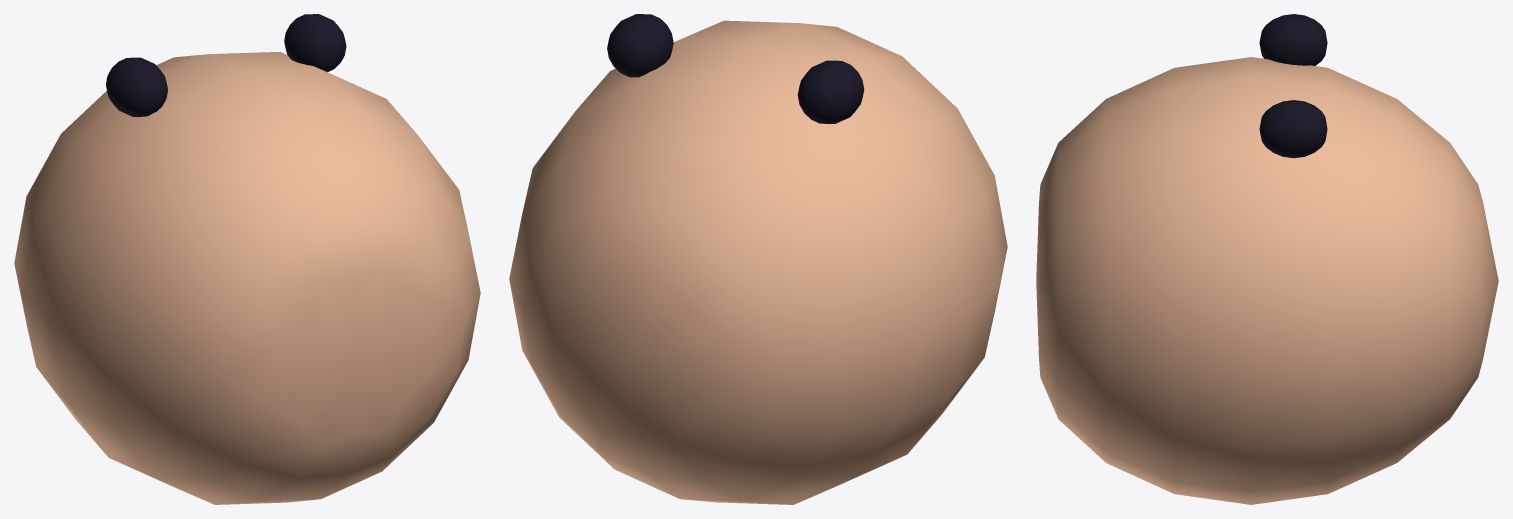
File: customer_head.fbx
The picture shows the model from 3 angles, left to right: view 1: azimuth 30°, elevation 25°; view 2: azimuth 150°, elevation 25°; view 3: azimuth 270°, elevation 25°; orthographic projection. The views are drawn at different scales.
Parts seen in each view (by area): view 1: customer_head; view 2: customer_head; view 3: customer_head.
Boxes of the visible parts, x1=… form: customer_head: x1=14, y1=14, x2=480, y2=504; customer_head: x1=509, y1=14, x2=1007, y2=504; customer_head: x1=1036, y1=14, x2=1498, y2=504.
Bounding box in the file's own units: 41.41 × 43.23 × 42.67.
